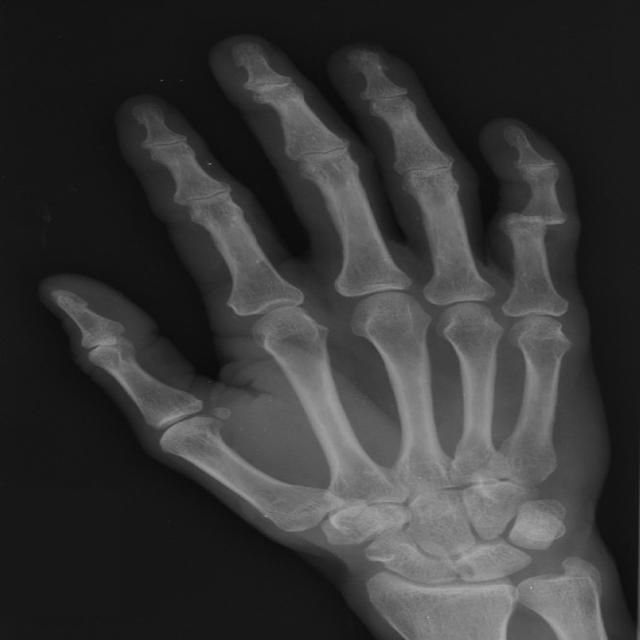fracture: (494, 188, 586, 262)
